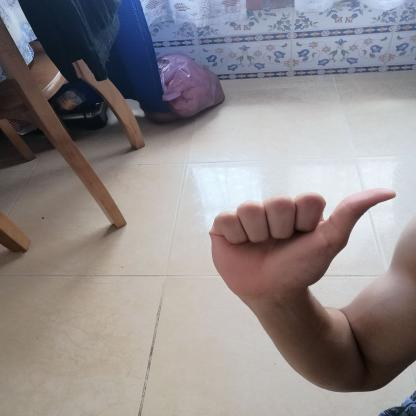DAD: (195, 176, 407, 312)
